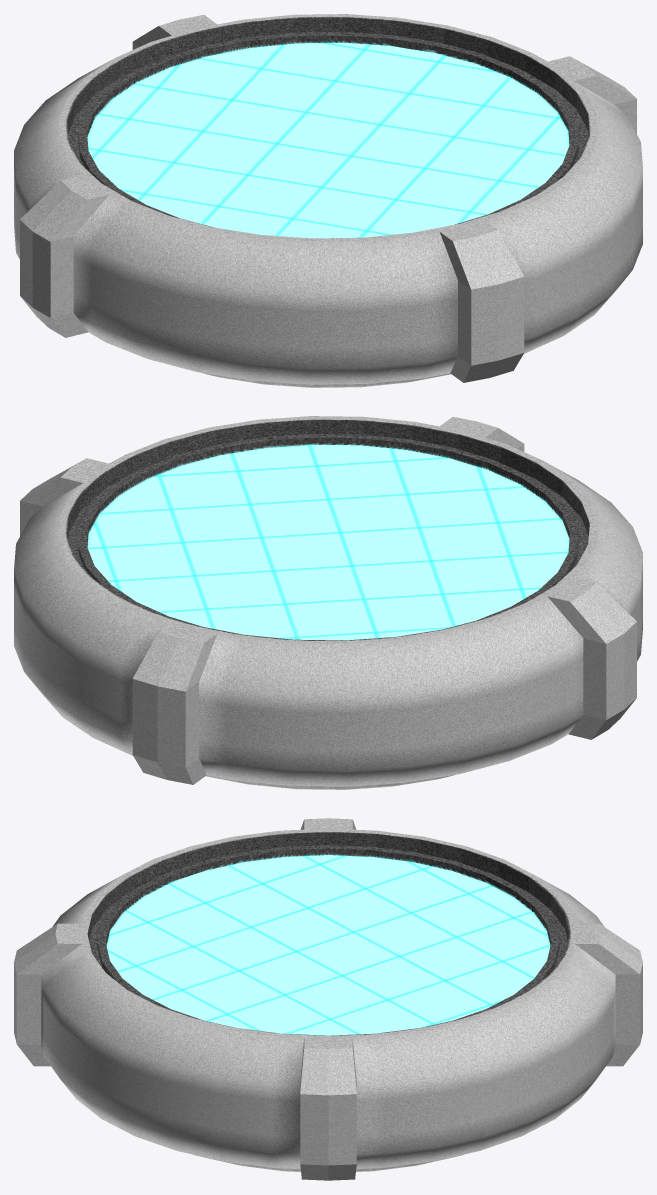
File: holo-puck.glb
3 views of the same model, one above another, from view 1: azimuth 30°, elevation 25°; view 2: azimuth 150°, elevation 25°; view 3: azimuth 270°, elevation 25° (orthographic). The views are drawn at different scales.
Parts seen in each view (by area): view 1: Cylinder; view 2: Cylinder; view 3: Cylinder.
Boxes of the visible parts, left/top/right/bottom form: Cylinder: left=14, top=14, right=642, bottom=387; Cylinder: left=14, top=416, right=642, bottom=789; Cylinder: left=14, top=818, right=642, bottom=1180.
Bounding box in the file's own units: 6.44 × 1.62 × 6.44.
Materials: 1 (1 with a texture image).
